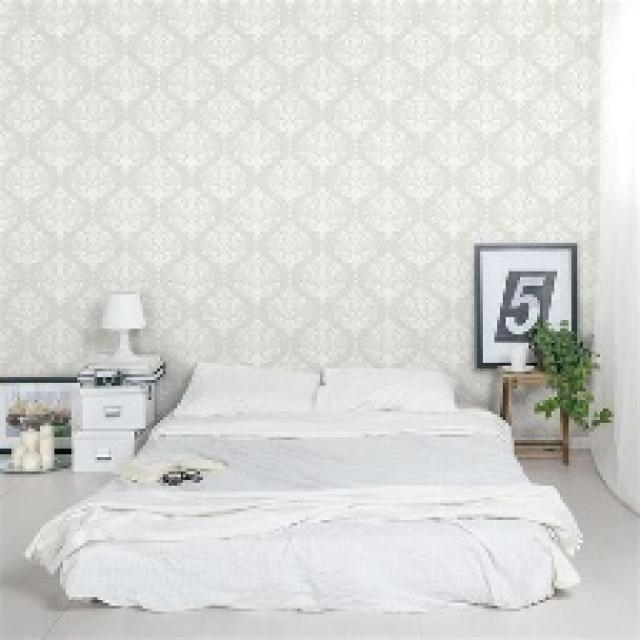Bed: (26, 360, 583, 611)
